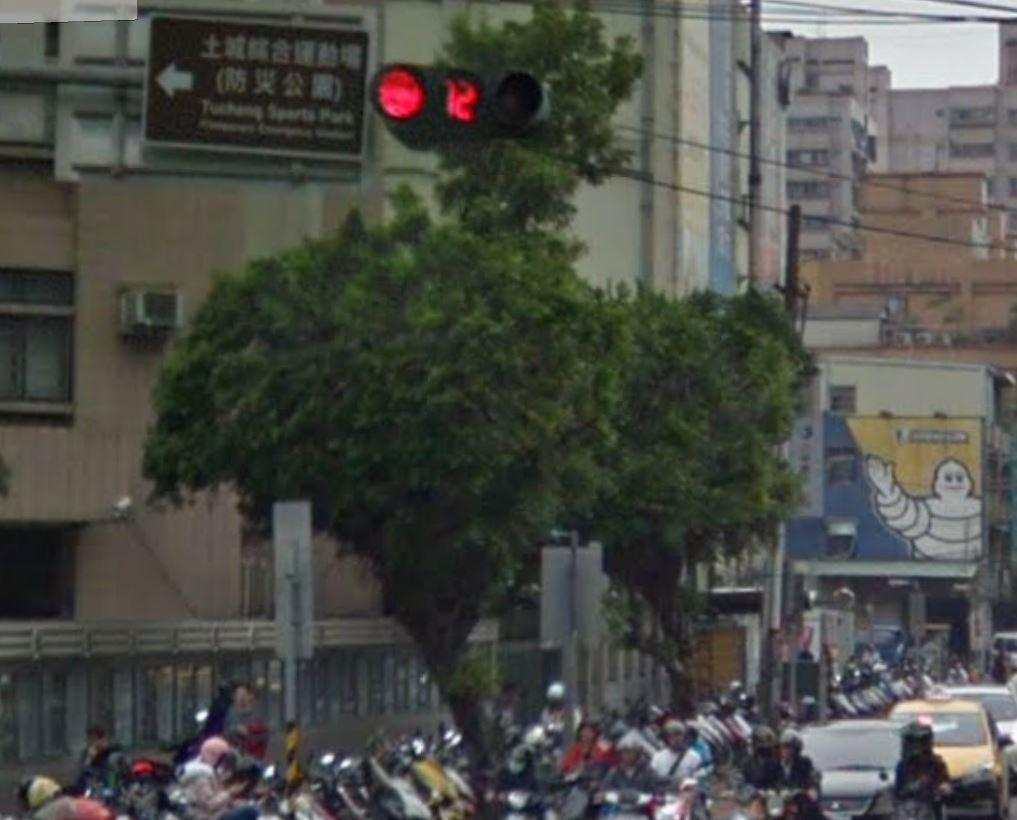red_traffic_light: (368, 58, 547, 132)
